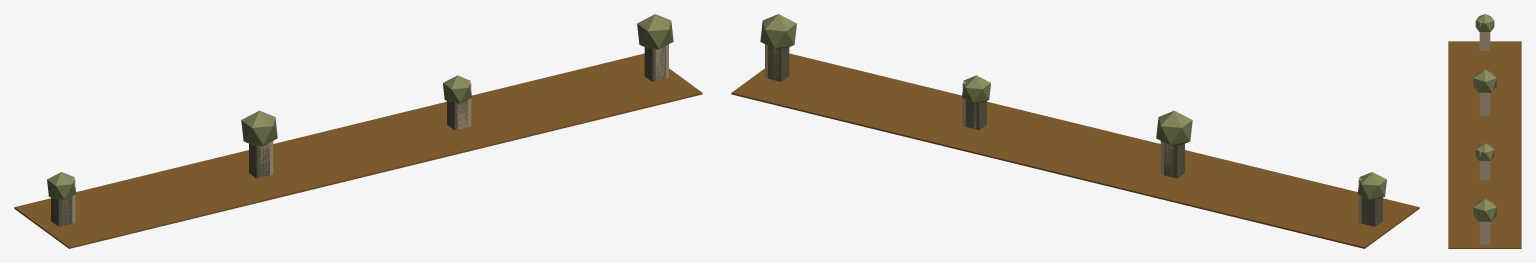
The model's file is SM_Naranjos_v2_HileraJoven_LOD1.fbx.
3 views of the same model, side by side, from view 1: azimuth 30°, elevation 25°; view 2: azimuth 150°, elevation 25°; view 3: azimuth 270°, elevation 25° (orthographic). The views are drawn at different scales.
Visible parts, largest first — view 1: SM_viveres_nules_v2_LOD1; view 2: SM_viveres_nules_v2_LOD1; view 3: SM_viveres_nules_v2_LOD1.
Part boxes in pixels (x1,y1,x2,y2): SM_viveres_nules_v2_LOD1: (14, 14, 702, 248); SM_viveres_nules_v2_LOD1: (731, 14, 1419, 248); SM_viveres_nules_v2_LOD1: (1448, 14, 1521, 248).
Bounding box in the file's own units: 16 × 1.58 × 2.4.
